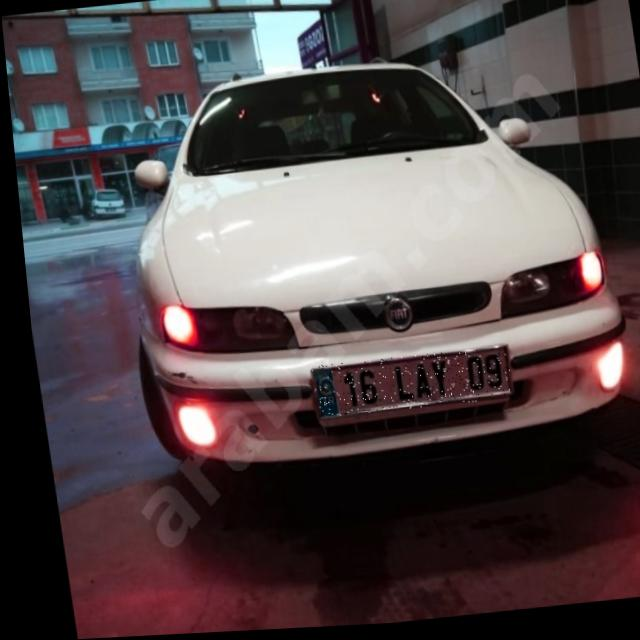license_plate: (304, 351, 506, 421)
